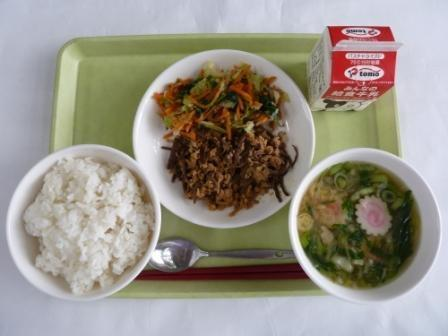Milk: (305, 18, 402, 115)
Rice: (6, 151, 161, 292)
Soups: (294, 146, 440, 295)
cooked food based on meat: (161, 127, 299, 217)
salad with sauce: (152, 60, 289, 142)
